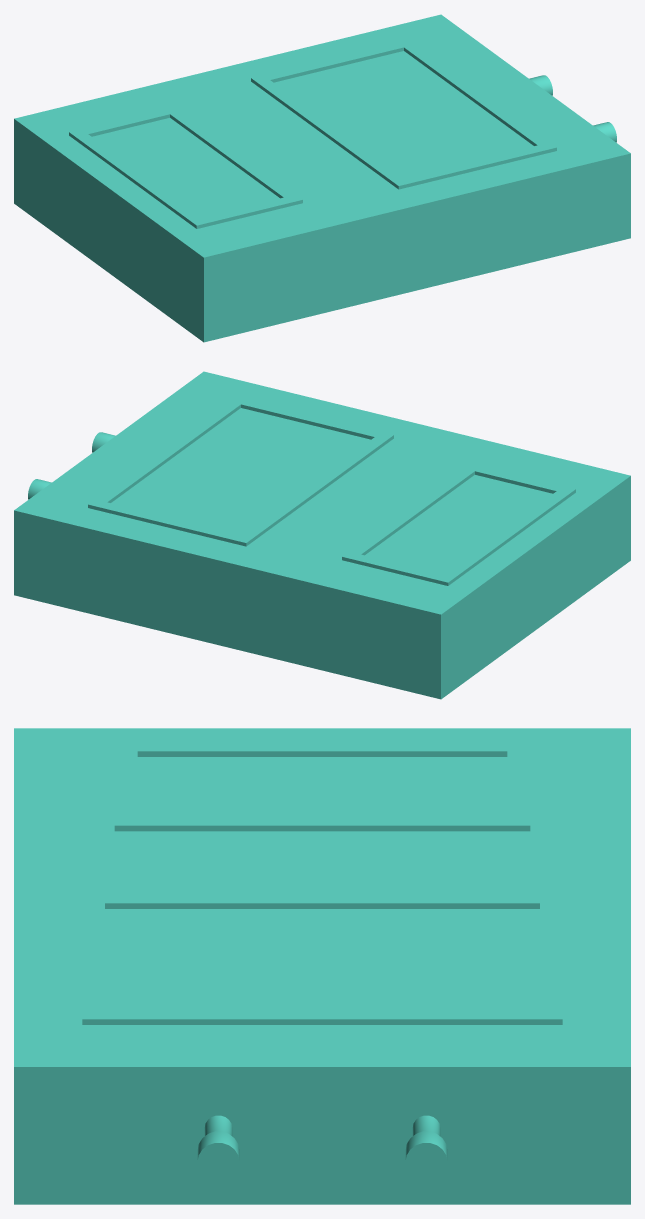
File: SM_Ammeter.fbx
3 views of the same model, one above another, from view 1: azimuth 30°, elevation 25°; view 2: azimuth 150°, elevation 25°; view 3: azimuth 270°, elevation 25° (orthographic). The views are drawn at different scales.
Visible parts, largest first — view 1: invention_003.001; view 2: invention_003.001; view 3: invention_003.001.
Part boxes in pixels (x1,y1,x2,y2): invention_003.001: [14, 14, 630, 342]; invention_003.001: [14, 371, 630, 699]; invention_003.001: [14, 728, 630, 1204].
Bounding box in the file's own units: 57.92 × 10.41 × 40.55.
